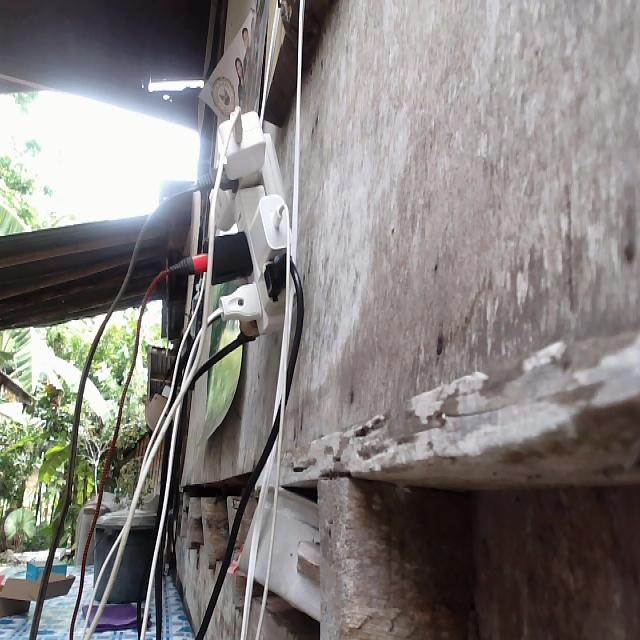-: (170, 106, 300, 342)
